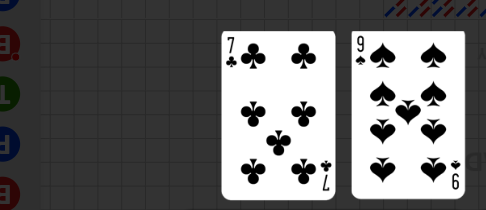7C: (224, 35, 239, 70)
9S: (449, 157, 462, 191)
